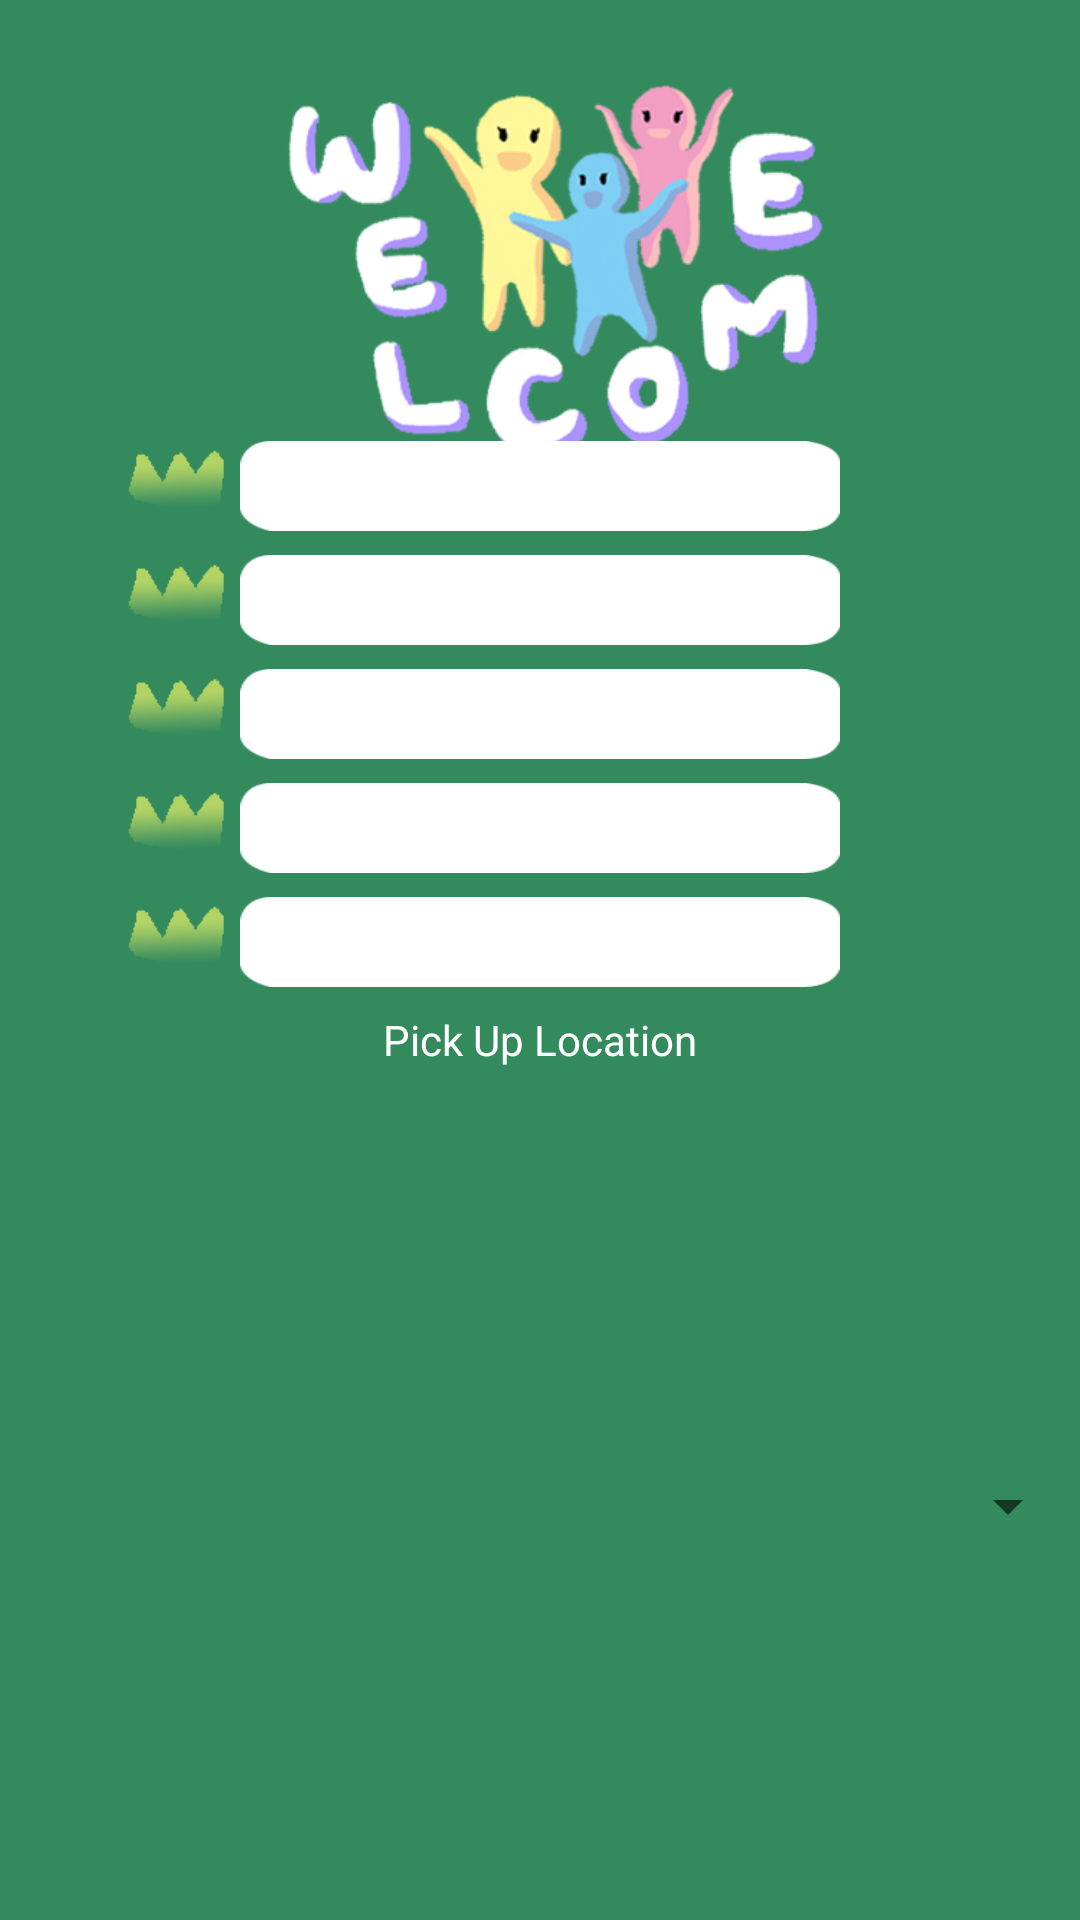

Point at icon controls on the screen. Image size 1080 × 1920, points as (x=x, y=y).
profile deco: (x=176, y=475), (x=176, y=589), (x=176, y=703), (x=176, y=817), (x=176, y=931)
